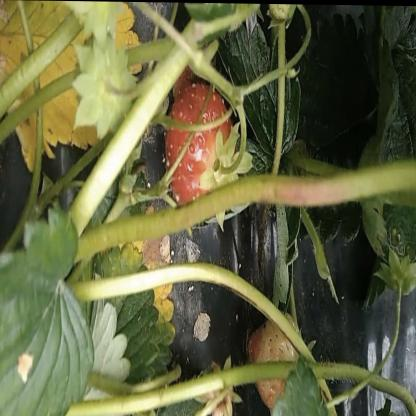ripe: (165, 84, 236, 210)
unripe: (247, 309, 300, 412)
